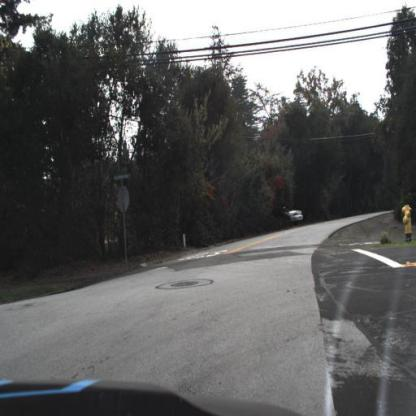car: (285, 199, 313, 231), (285, 206, 304, 224)
